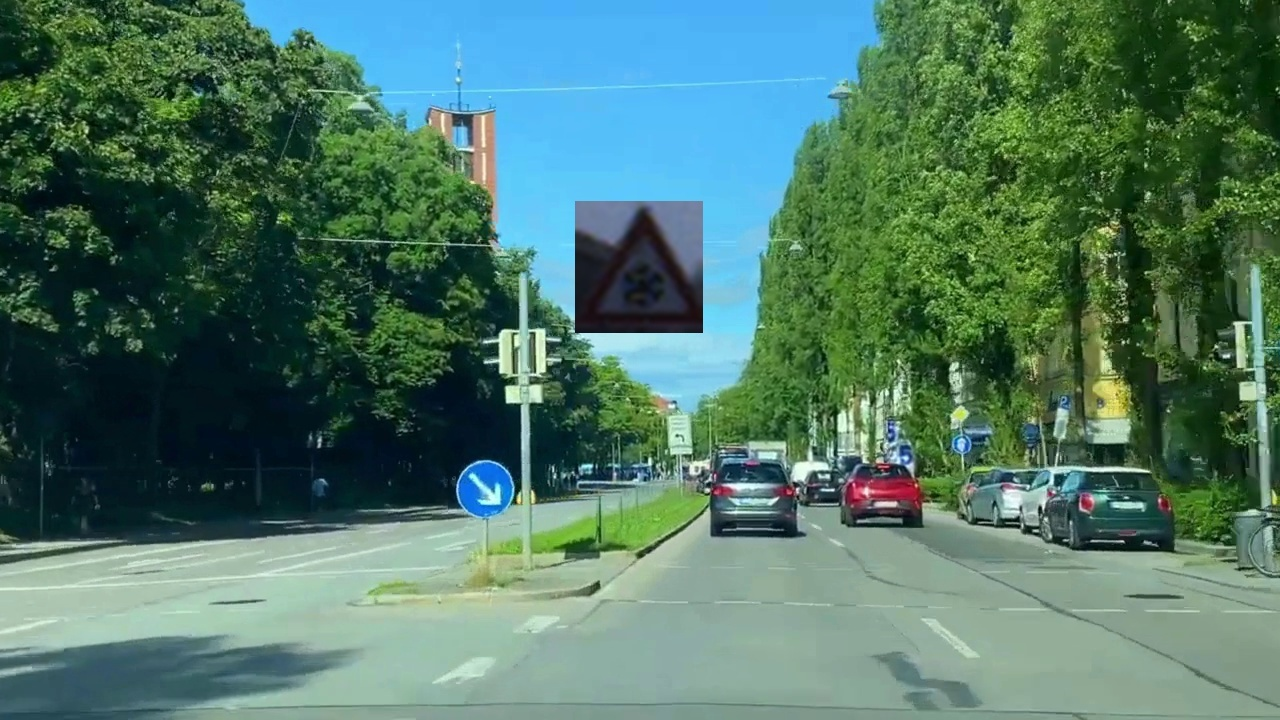Ice/snow: (575, 201, 703, 333)
